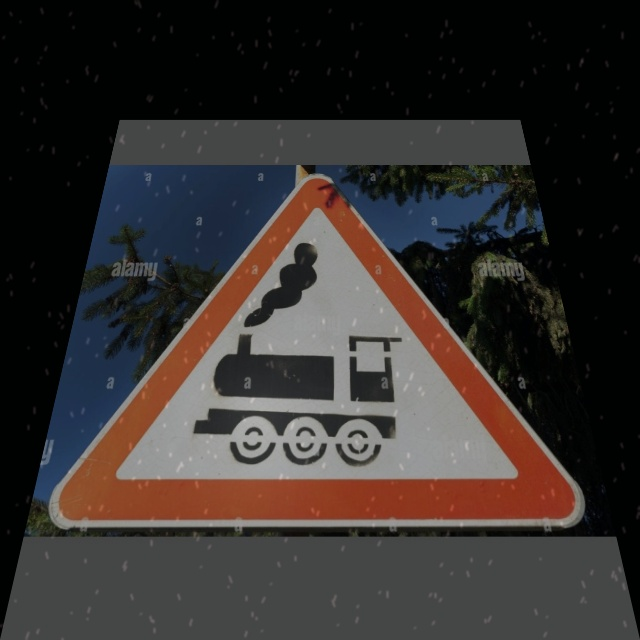Unguarded_Level_Crossing: (92, 189, 528, 516)
